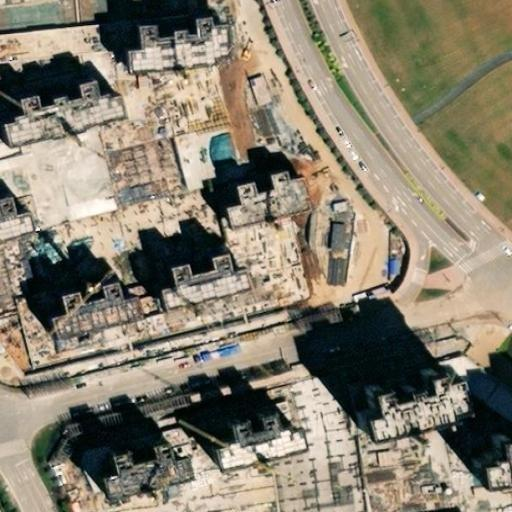building: (209, 164, 307, 233), (28, 67, 126, 123), (197, 115, 292, 172), (44, 264, 139, 321), (206, 233, 301, 290), (368, 389, 452, 438), (120, 455, 195, 503), (231, 430, 306, 478), (99, 0, 197, 28), (244, 69, 271, 105), (327, 217, 349, 249)
